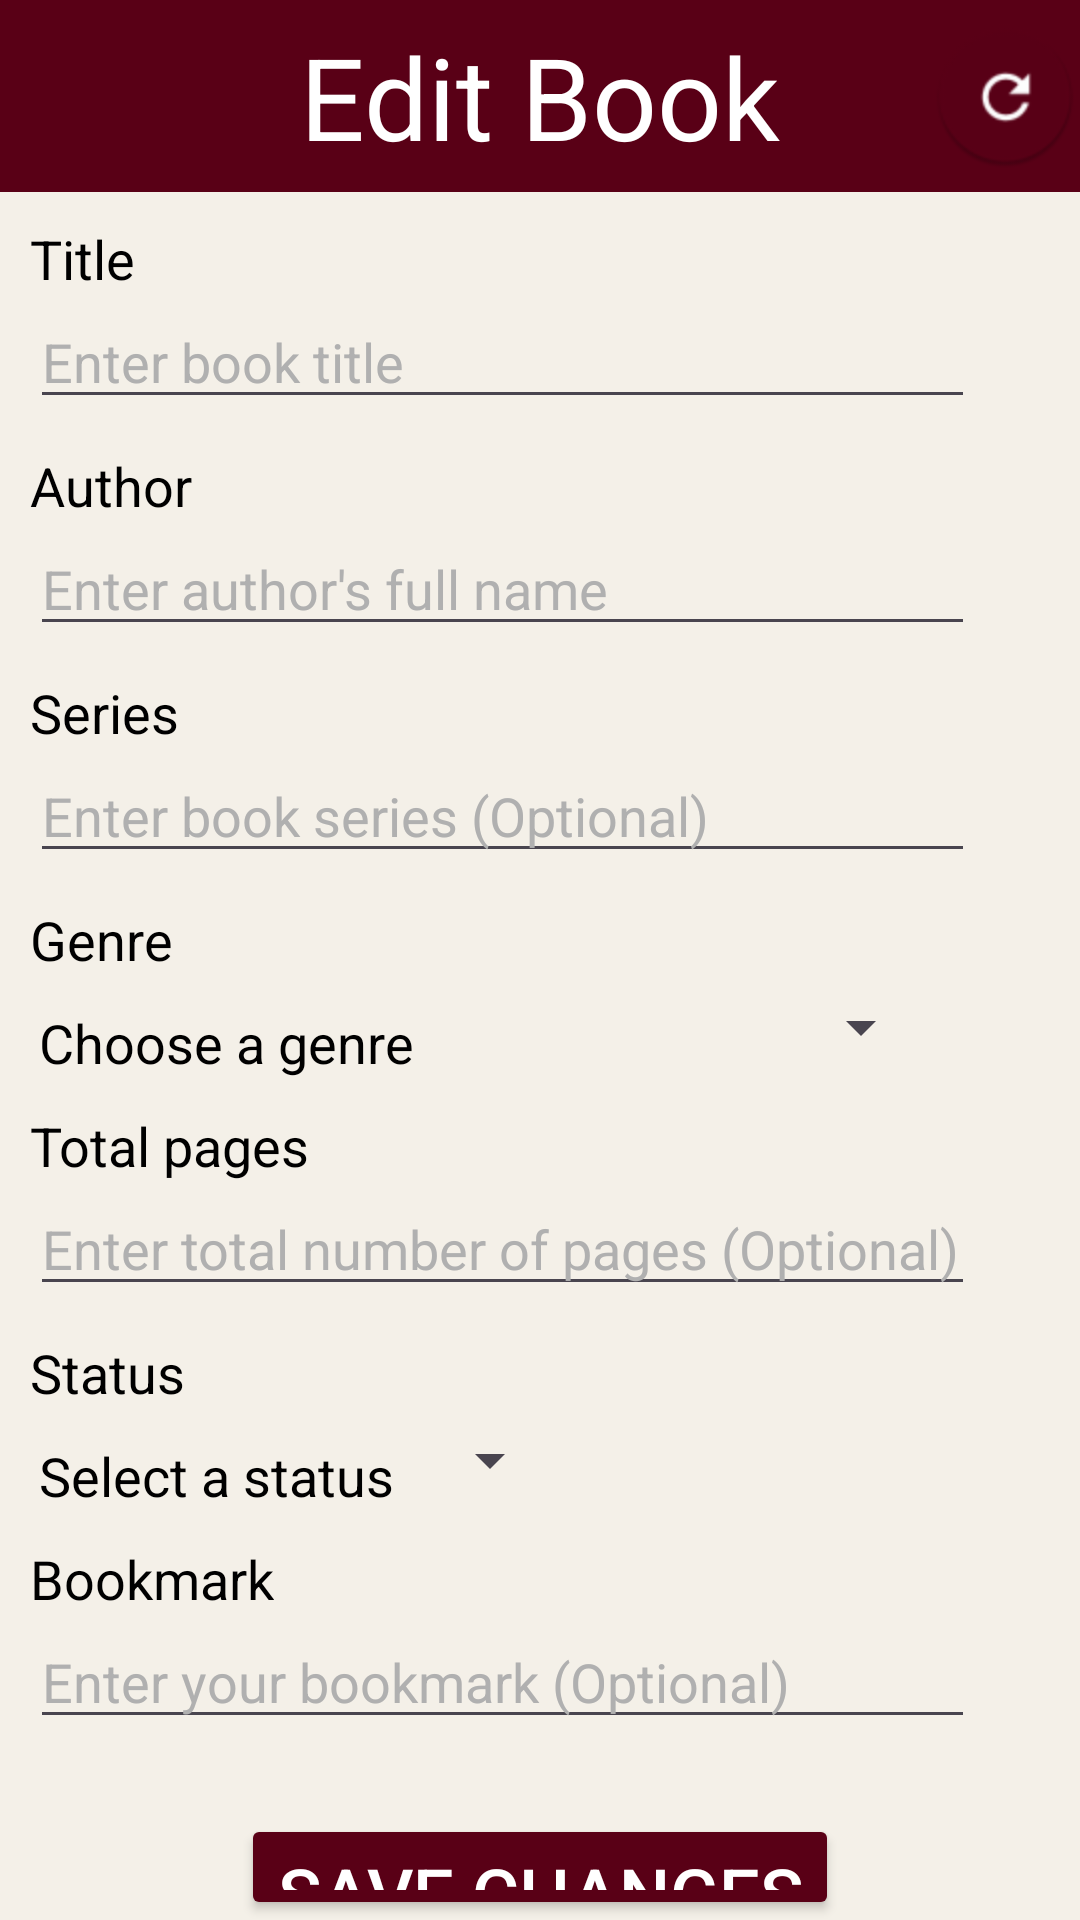

Icon bounding boxes for this 1080 x 1920 phone screenshot, format (x1, y1, x2, y2):
refresh: (981, 72, 1031, 122)
